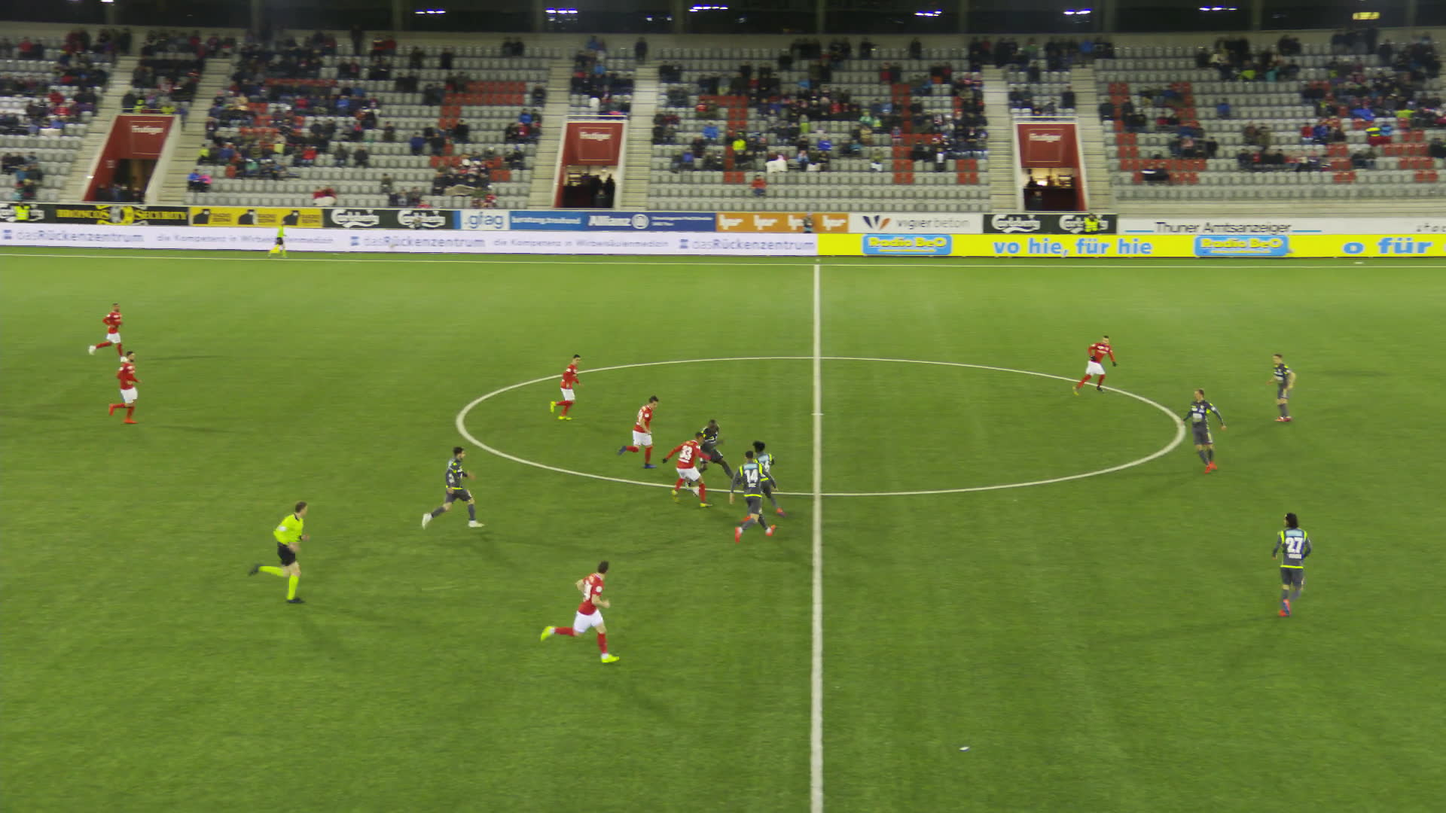ball: (696, 486, 710, 501)
player: (537, 558, 617, 664), (725, 447, 779, 551), (421, 445, 476, 539), (1269, 510, 1312, 618), (684, 418, 743, 492), (1179, 385, 1228, 473), (661, 430, 713, 508), (744, 439, 789, 525), (617, 395, 661, 471), (1075, 334, 1122, 396), (86, 301, 130, 364), (107, 349, 142, 425), (547, 353, 584, 422), (1266, 352, 1297, 423)
referee: (237, 498, 313, 604), (264, 219, 288, 258)
